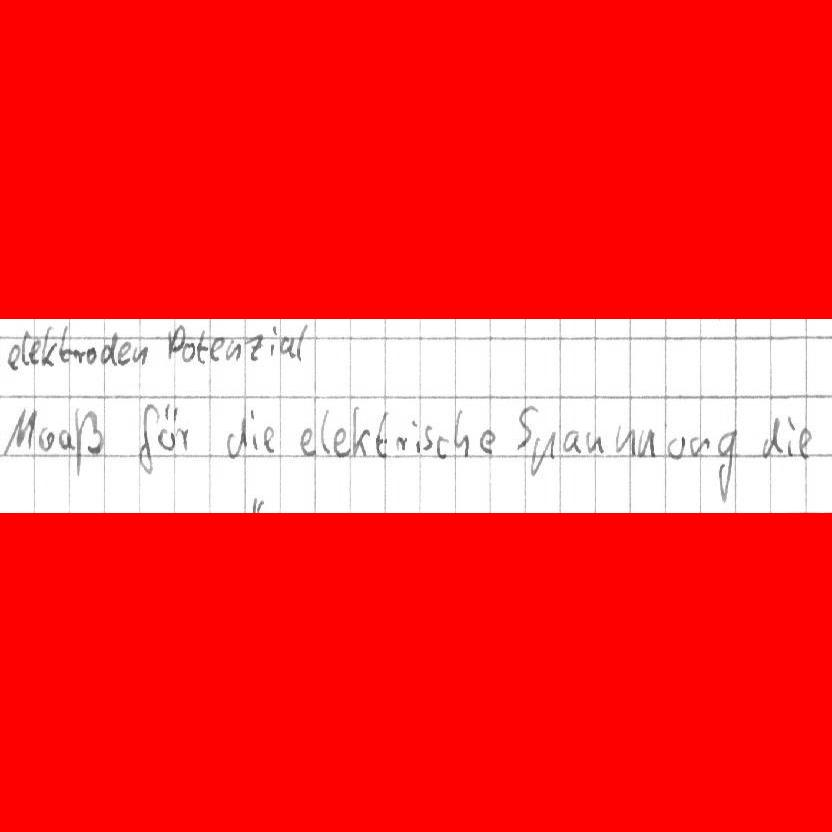Char: (73, 406, 106, 476), (713, 427, 739, 503), (3, 405, 38, 458), (137, 400, 160, 477), (527, 428, 557, 477), (157, 399, 180, 455), (224, 414, 250, 463), (349, 404, 370, 458), (515, 402, 538, 449), (760, 415, 782, 461), (453, 408, 471, 459), (374, 410, 390, 460), (40, 325, 57, 370), (98, 330, 118, 367), (330, 425, 351, 460), (614, 423, 636, 455), (166, 323, 184, 361), (636, 426, 656, 460), (297, 426, 318, 458), (245, 331, 264, 365), (319, 407, 332, 456), (58, 324, 73, 364), (294, 323, 309, 363), (687, 433, 710, 459), (475, 426, 496, 454), (666, 433, 687, 461), (37, 424, 55, 455), (798, 425, 813, 460), (562, 429, 582, 455), (584, 429, 604, 455), (249, 408, 260, 455), (261, 423, 277, 455), (785, 414, 796, 460), (127, 343, 148, 367), (57, 425, 74, 454), (26, 337, 42, 366), (208, 335, 224, 364), (116, 339, 132, 367), (410, 418, 422, 455), (7, 341, 21, 372), (223, 338, 240, 363), (279, 333, 294, 360), (196, 329, 207, 365), (175, 425, 190, 451), (435, 434, 450, 460), (20, 328, 29, 370), (180, 341, 196, 363), (422, 424, 435, 451), (393, 432, 407, 453), (269, 326, 277, 359), (84, 347, 98, 365), (73, 347, 86, 364)
